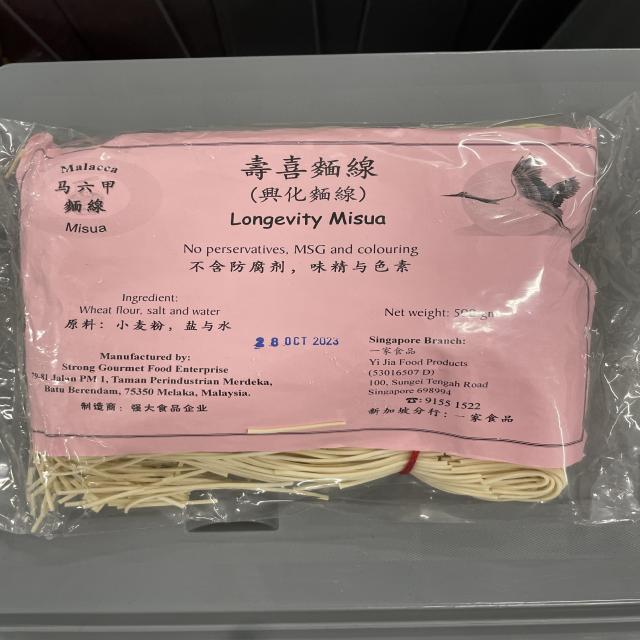object_name: (6, 130, 618, 510)
